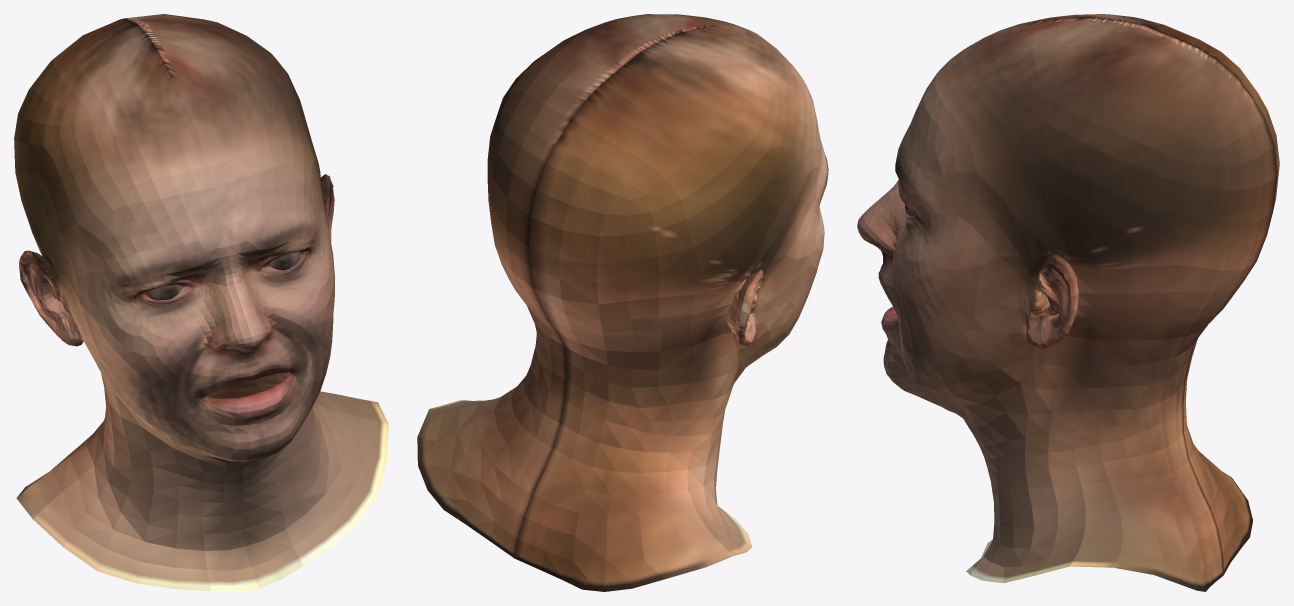
The picture shows the model from 3 angles, left to right: view 1: azimuth 30°, elevation 25°; view 2: azimuth 150°, elevation 25°; view 3: azimuth 270°, elevation 25°; orthographic projection. The views are drawn at different scales.
Visible parts, largest first — view 1: mesh_coarse; view 2: mesh_coarse; view 3: mesh_coarse.
Boxes of the visible parts, <box> form: mesh_coarse: <box>14,14,388,591</box>; mesh_coarse: <box>417,14,828,591</box>; mesh_coarse: <box>857,14,1279,591</box>.
Size of the model in its own units: 0.217 by 0.3122 by 0.2272.
Materials: 1 (1 with a texture image).
